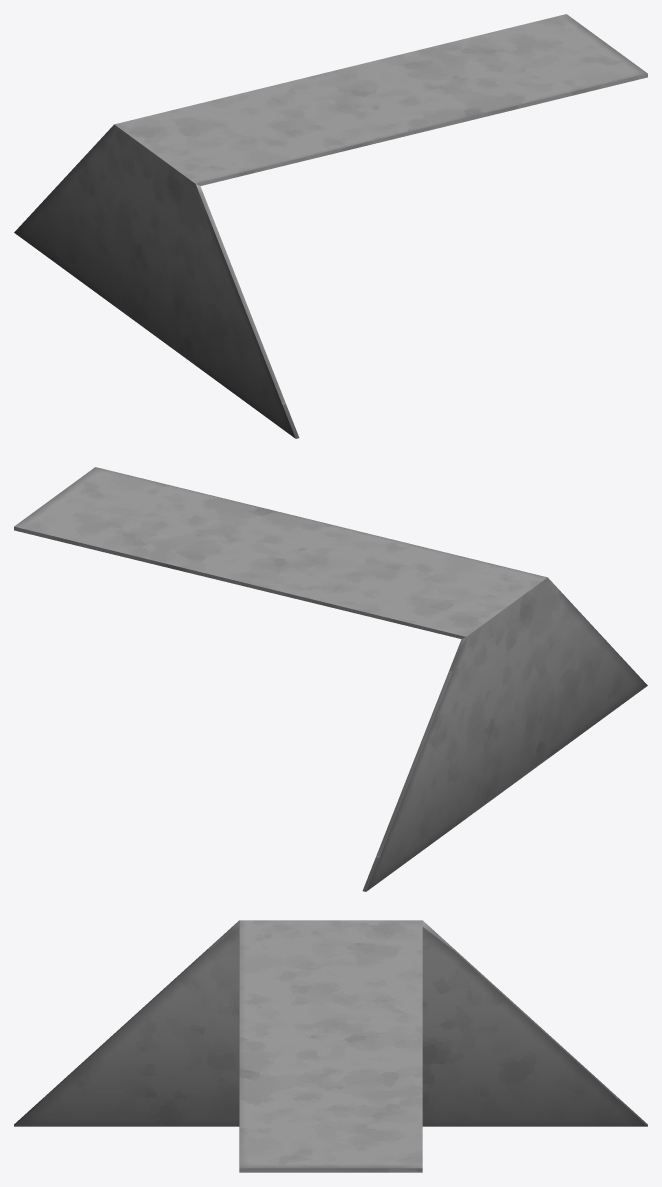
Rendered from Factory_Roof_Top.fbx.
3 renders of one model, top to bottom at view 1: azimuth 30°, elevation 25°; view 2: azimuth 150°, elevation 25°; view 3: azimuth 270°, elevation 25°, orthographic. The views are drawn at different scales.
Parts seen in each view (by area): view 1: Plane.053; view 2: Plane.053; view 3: Plane.053.
Boxes of the visible parts, x1,y1,x2,y2 form: Plane.053: (14,14,647,438); Plane.053: (14,467,647,891); Plane.053: (14,920,647,1172).
Bounding box in the file's own units: 1838 × 705 × 1983.
Materials: 1 (1 with a texture image).
